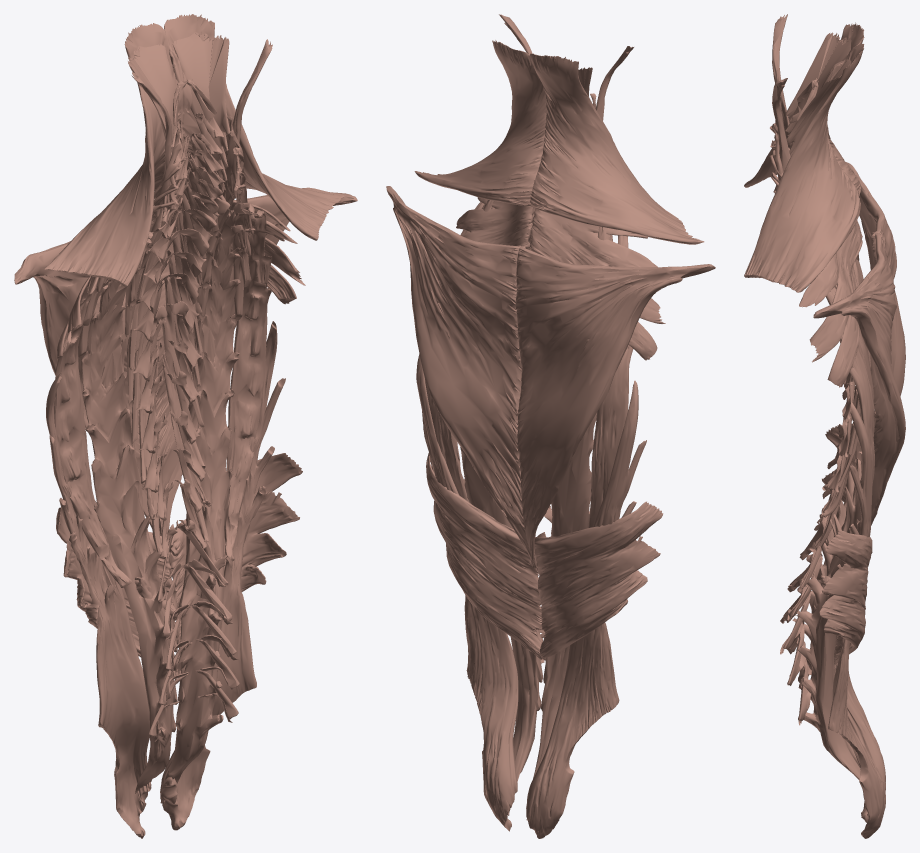
File: other-22.glb
The picture shows the model from 3 angles, left to right: view 1: azimuth 30°, elevation 25°; view 2: azimuth 150°, elevation 25°; view 3: azimuth 270°, elevation 25°; orthographic projection. The views are drawn at different scales.
Parts seen in each view (by area): view 1: FJ1535, FJ1535M, FJ1527, FJ1521, FJ1527M, FJ1528M, FJ1525M, FJ1528, FJ1521M, FJ1525, FJ1520, FJ1541M (+20 smaller); view 2: FJ1520M, FJ1520, FJ1521, FJ1541, FJ1527, FJ1541M, FJ1527M, FJ1521M, FJ1542, FJ1535, FJ1535M, FJ1528 (+2 smaller); view 3: FJ1521M, FJ1520M, FJ1535M, FJ1527M, FJ1541M, FJ1542M, FJ1520, FJ1522M, FJ1538, FJ1528M, FJ1527, FJ1521 (+10 smaller).
Part boxes in pixels (<box>): FJ1535: <box>81,220,178,793</box>; FJ1535M: <box>162,199,254,802</box>; FJ1527: <box>46,373,151,838</box>; FJ1521: <box>44,23,184,286</box>; FJ1527M: <box>160,321,285,830</box>; FJ1528M: <box>224,210,271,561</box>; FJ1525M: <box>166,192,219,548</box>; FJ1528: <box>54,239,151,587</box>; FJ1521M: <box>164,14,345,240</box>; FJ1525: <box>132,197,182,557</box>; FJ1520: <box>14,241,172,571</box>; FJ1541M: <box>169,453,302,675</box>; FJ1520M: <box>386,186,536,567</box>; FJ1520: <box>515,245,715,566</box>; FJ1521: <box>528,53,704,244</box>; FJ1541: <box>534,501,663,660</box>; FJ1527: <box>526,380,646,838</box>; FJ1541M: <box>426,453,541,659</box>; FJ1527M: <box>416,354,518,831</box>; FJ1521M: <box>414,40,546,205</box>; FJ1542: <box>530,209,665,360</box>; FJ1535: <box>533,232,597,778</box>; FJ1535M: <box>460,207,542,795</box>; FJ1528: <box>588,235,633,527</box>; FJ1521M: <box>744,43,864,292</box>; FJ1520M: <box>813,232,905,525</box>; FJ1535M: <box>797,326,874,779</box>; FJ1527M: <box>828,402,885,838</box>; FJ1541M: <box>819,530,872,664</box>; FJ1542M: <box>799,221,862,387</box>; FJ1520: <box>845,162,905,429</box>; FJ1522M: <box>780,516,827,725</box>; FJ1538: <box>785,32,851,148</box>; FJ1528M: <box>823,287,874,584</box>; FJ1527: <box>834,423,885,822</box>; FJ1521: <box>744,22,864,196</box>.
Bounding box in the file's own units: 0.2972 × 0.6762 × 0.1252.
